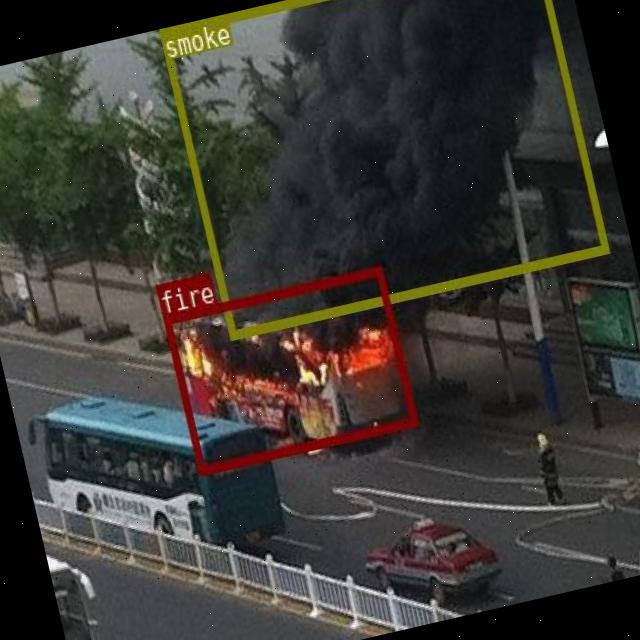fire: (162, 264, 417, 474)
smoke: (158, 0, 607, 336)
